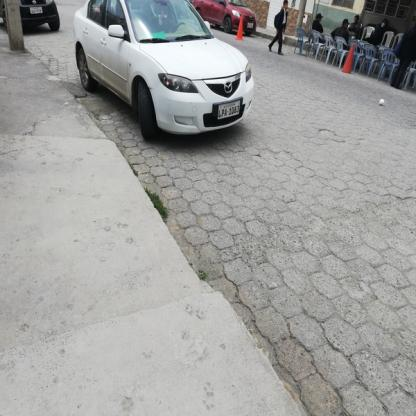Placa: (214, 100, 245, 124)
